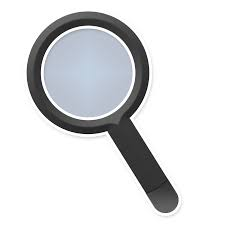searchIcon: (23, 9, 182, 215)
